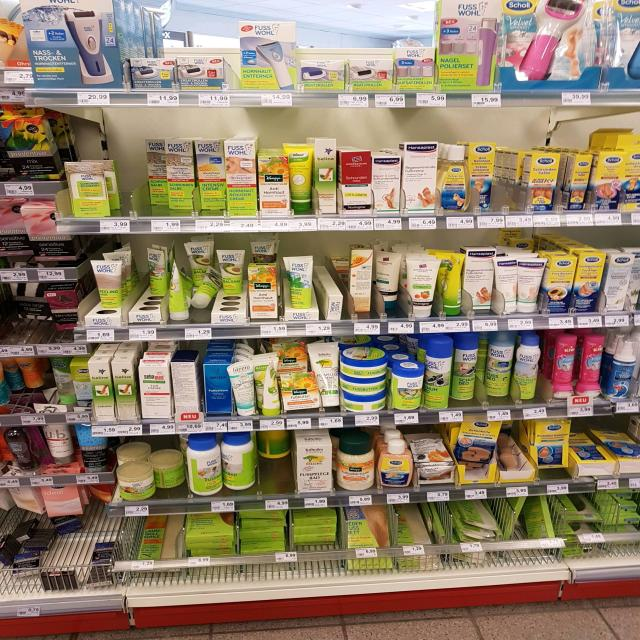empty: (490, 141, 526, 212)
